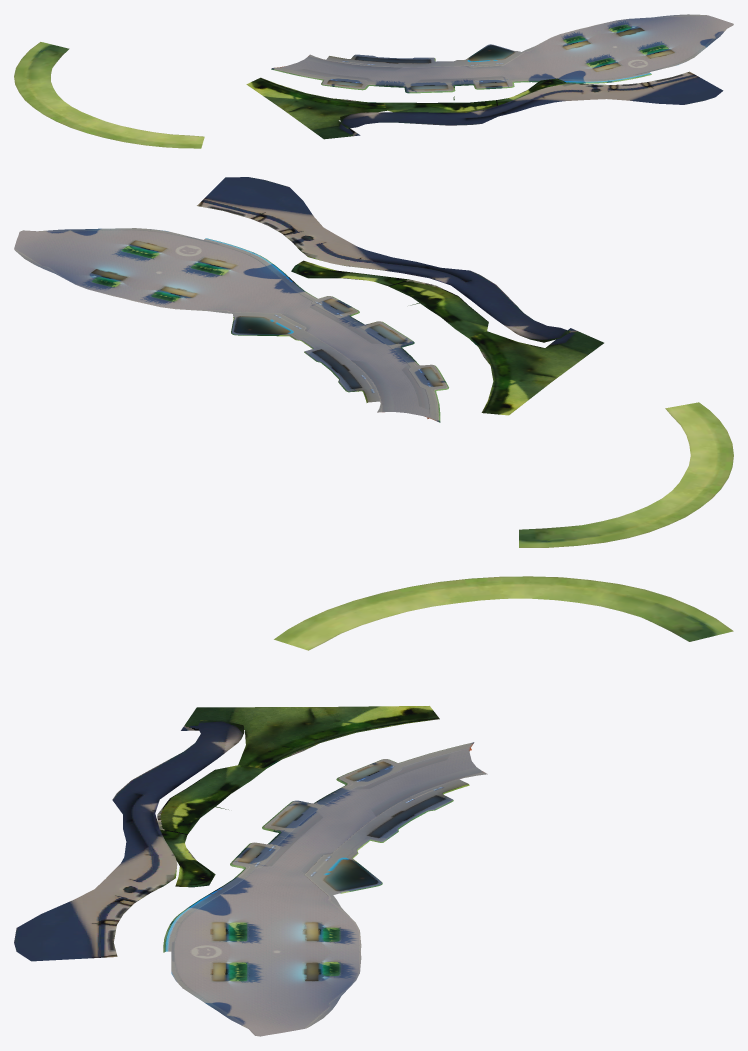
File: pref_sm_beach_tech_hunt_bk_beta_Terrains_Part_07_lv1.fbx
3 renders of one model, top to bottom at view 1: azimuth 30°, elevation 25°; view 2: azimuth 150°, elevation 25°; view 3: azimuth 270°, elevation 25°, orthographic. The views are drawn at different scales.
Visible parts, largest first — view 1: sm_beach_tech_hunt_bk_beta_Terrains_Part_07a_lv1, sm_beach_tech_hunt_bk_beta_Terrains_Part_07d_lv1, sm_beach_tech_hunt_bk_beta_Terrains_Part_07b_lv1, sm_beach_tech_hunt_bk_beta_Terrains_Part_07c_lv1; view 2: sm_beach_tech_hunt_bk_beta_Terrains_Part_07a_lv1, sm_beach_tech_hunt_bk_beta_Terrains_Part_07d_lv1, sm_beach_tech_hunt_bk_beta_Terrains_Part_07c_lv1, sm_beach_tech_hunt_bk_beta_Terrains_Part_07b_lv1; view 3: sm_beach_tech_hunt_bk_beta_Terrains_Part_07a_lv1, sm_beach_tech_hunt_bk_beta_Terrains_Part_07d_lv1, sm_beach_tech_hunt_bk_beta_Terrains_Part_07c_lv1, sm_beach_tech_hunt_bk_beta_Terrains_Part_07b_lv1.
Part boxes in pixels (x1,y1,x2,y2): sm_beach_tech_hunt_bk_beta_Terrains_Part_07a_lv1: (271,14,733,93); sm_beach_tech_hunt_bk_beta_Terrains_Part_07d_lv1: (340,71,723,128); sm_beach_tech_hunt_bk_beta_Terrains_Part_07b_lv1: (14,42,204,148); sm_beach_tech_hunt_bk_beta_Terrains_Part_07c_lv1: (246,77,565,139); sm_beach_tech_hunt_bk_beta_Terrains_Part_07a_lv1: (14,228,448,422); sm_beach_tech_hunt_bk_beta_Terrains_Part_07d_lv1: (197,177,570,342); sm_beach_tech_hunt_bk_beta_Terrains_Part_07c_lv1: (291,260,603,415); sm_beach_tech_hunt_bk_beta_Terrains_Part_07b_lv1: (519,402,733,547); sm_beach_tech_hunt_bk_beta_Terrains_Part_07a_lv1: (163,742,487,1036); sm_beach_tech_hunt_bk_beta_Terrains_Part_07d_lv1: (14,720,244,961); sm_beach_tech_hunt_bk_beta_Terrains_Part_07c_lv1: (157,706,439,887); sm_beach_tech_hunt_bk_beta_Terrains_Part_07b_lv1: (274,576,733,650).
Size of the model in its own units: 130 by 1.77 by 86.42.
Materials: 1 (1 with a texture image).
